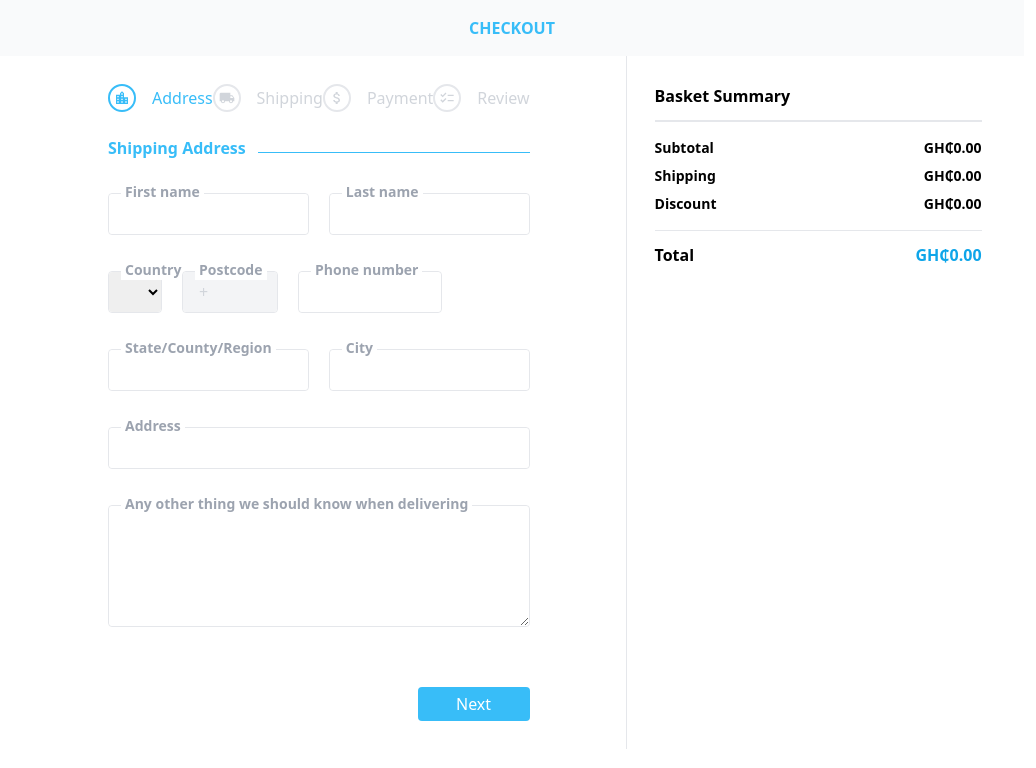
Should render errors if shipping methods request fails - Integration
# next section - shipping method
Click the button with test id "chonext" at (474, 704), box 418,687 -> 530,721
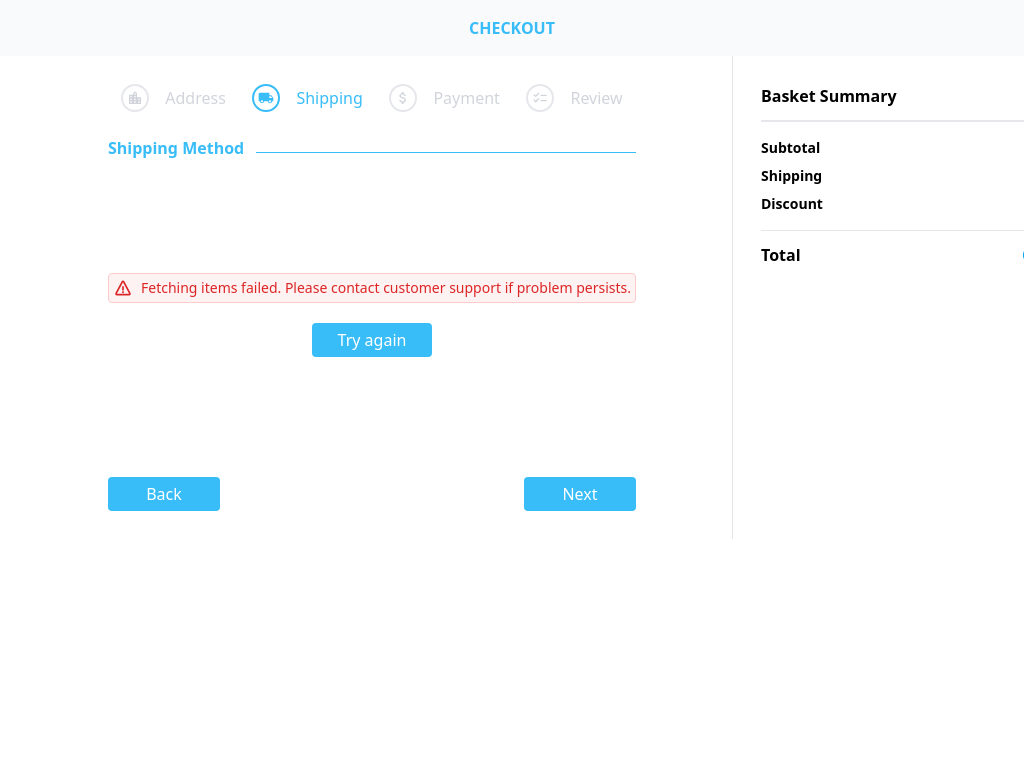
Expected: the text "Fetching items failed. Please contact customer support if problem persists." is shown, 141,278 -> 631,298
